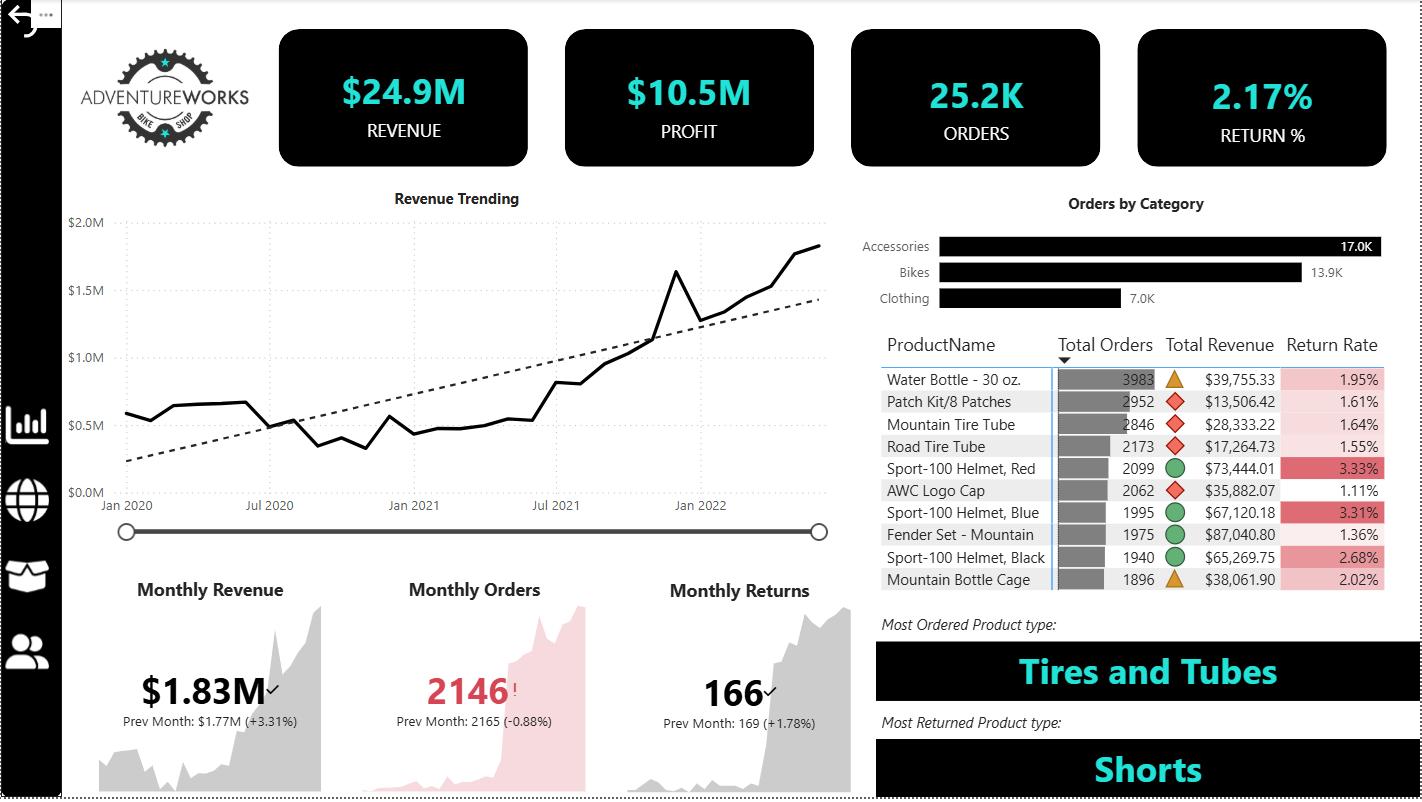

The dashboard page shown, as its layout file describes it:
{"tool":"powerbi","page":{"name":"Exec Dashboard","canvas":[1280,720],"ordinal":0},"visuals":[{"type":"shape","box":[1025,27.4,225.2,124.4],"z":0},{"type":"shape","box":[250,27.4,225.2,124.4],"z":1000},{"type":"shape","box":[508.4,27.4,225.2,124.4],"z":2000},{"type":"shape","box":[766.7,27.4,225.2,124.4],"z":3000},{"type":"image","box":[54.7,6.2,185.3,165.4],"z":4000},{"type":"shape","box":[0,0,55,720.3],"z":5000},{"type":"card","fields":{"Values":["Measure Table.Total Revenue"]},"box":[272.4,16.2,181.6,155.5],"z":6000},{"type":"card","fields":{"Values":["Sales Data.Total Profit"]},"box":[529.9,17.4,181.6,155.5],"z":7000},{"type":"card","fields":{"Values":["Measure Table.Total Orders"]},"box":[788.7,18.7,181.6,155.5],"z":8000},{"type":"card","fields":{"Values":["Measure Table.Return Rate"]},"box":[1047.4,19.9,181.6,155.5],"z":9000},{"type":"lineChart","title":" Revenue Trending","fields":{"Category":["Calendar Lookup.Start of Month"],"Y":["Measure Table.Total Revenue"]},"box":[54.7,170.4,711.5,320.9],"z":10000},{"type":"clusteredBarChart","fields":{"Category":["Product Categories Lookup.CategoryName"],"Y":["Measure Table.Total Orders"]},"box":[766.3,174.2,513.8,119.4],"z":11000},{"type":"pivotTable","fields":{"Rows":["Product Lookup.ProductName"],"Values":["Measure Table.Total Orders","Measure Table.Total Revenue","Measure Table.Return Rate"]},"box":[788.7,293.6,491.4,256.3],"z":12000},{"type":"kpi","title":"Monthly Revenue","fields":{"Indicator":["Measure Table.Total Revenue"],"TrendLine":["Calendar Lookup.Start of Month"],"Goal":["Measure Table.Prev Month Revenue"]},"box":[83.3,521,210.2,199],"z":13000},{"type":"kpi","title":"Monthly Orders","fields":{"TrendLine":["Calendar Lookup.Start of Month"],"Indicator":["Measure Table.Total Orders"],"Goal":["Measure Table.Previous Month Orders"]},"box":[321.6,521,211,199],"z":14000},{"type":"kpi","title":"Monthly Returns","fields":{"TrendLine":["Calendar Lookup.Start of Month"],"Indicator":["Measure Table.Total Returns"],"Goal":["Measure Table.Prev Month Returns"]},"box":[560.7,521.3,211.3,198.7],"z":15000},{"type":"card","fields":{"Values":["Min(Product Subcategories Lookup.SubcategoryName)"]},"box":[789,579.1,491.3,53.5],"z":16000},{"type":"card","fields":{"Values":["Min(Product Subcategories Lookup.SubcategoryName)"]},"box":[788.7,666.8,491.4,53.5],"z":17000},{"type":"textbox","box":[789,550.3,489.9,28.8],"z":18000},{"type":"textbox","box":[789,638.1,489.9,28.8],"z":19000},{"type":"actionButton","box":[0,0,54.7,39.8],"z":20000},{"type":"actionButton","box":[0,360.7,54.7,47.3],"z":21000},{"type":"actionButton","box":[0,428.8,54.7,47.3],"z":22000},{"type":"actionButton","box":[0,496.8,54.7,47.3],"z":23000},{"type":"actionButton","box":[0,564.8,54.7,47.3],"z":24000}]}

Visuals, with their boxes on the page's 1280x720 design canvas (x1, y1, x2, y2). These are canvas units, not pixel positions in the 1422x802 screenshot, which may show the page scaled, cropped or inside an application window:
shape: pyautogui.locateOnScreen(1025, 27, 1250, 152)
shape: pyautogui.locateOnScreen(250, 27, 475, 152)
shape: pyautogui.locateOnScreen(508, 27, 734, 152)
shape: pyautogui.locateOnScreen(767, 27, 992, 152)
image: pyautogui.locateOnScreen(55, 6, 240, 172)
shape: pyautogui.locateOnScreen(0, 0, 55, 720)
card - Measure Table.Total Revenue: pyautogui.locateOnScreen(272, 16, 454, 172)
card - Sales Data.Total Profit: pyautogui.locateOnScreen(530, 17, 712, 173)
card - Measure Table.Total Orders: pyautogui.locateOnScreen(789, 19, 970, 174)
card - Measure Table.Return Rate: pyautogui.locateOnScreen(1047, 20, 1229, 175)
" Revenue Trending" lineChart: pyautogui.locateOnScreen(55, 170, 766, 491)
clusteredBarChart - Product Categories Lookup.CategoryName x Measure Table.Total Orders: pyautogui.locateOnScreen(766, 174, 1280, 294)
pivotTable - Product Lookup.ProductName x Measure Table.Total Orders: pyautogui.locateOnScreen(789, 294, 1280, 550)
"Monthly Revenue" kpi: pyautogui.locateOnScreen(83, 521, 294, 720)
"Monthly Orders" kpi: pyautogui.locateOnScreen(322, 521, 533, 720)
"Monthly Returns" kpi: pyautogui.locateOnScreen(561, 521, 772, 720)
card - Min(Product Subcategories Lookup.SubcategoryName): pyautogui.locateOnScreen(789, 579, 1280, 633)
card - Min(Product Subcategories Lookup.SubcategoryName): pyautogui.locateOnScreen(789, 667, 1280, 720)
textbox: pyautogui.locateOnScreen(789, 550, 1279, 579)
textbox: pyautogui.locateOnScreen(789, 638, 1279, 667)
actionButton: pyautogui.locateOnScreen(0, 0, 55, 40)
actionButton: pyautogui.locateOnScreen(0, 361, 55, 408)
actionButton: pyautogui.locateOnScreen(0, 429, 55, 476)
actionButton: pyautogui.locateOnScreen(0, 497, 55, 544)
actionButton: pyautogui.locateOnScreen(0, 565, 55, 612)
